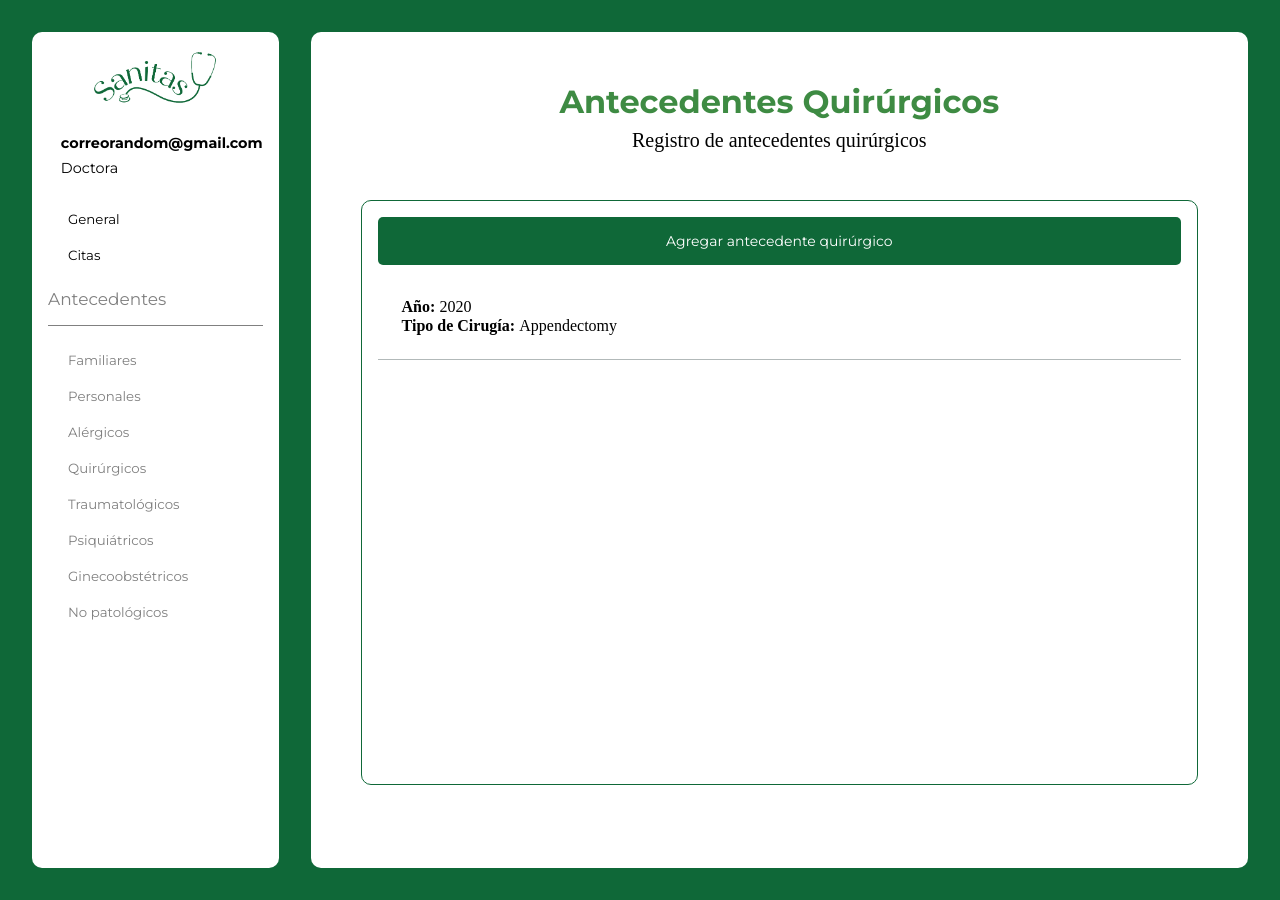
Scenario: SurgicalHistory Component Tests › cancels new surgical record form on button click
Click the button "Agregar antecedente quirúrgico": (779, 241) top-left (378, 217), bottom-right (1181, 265)
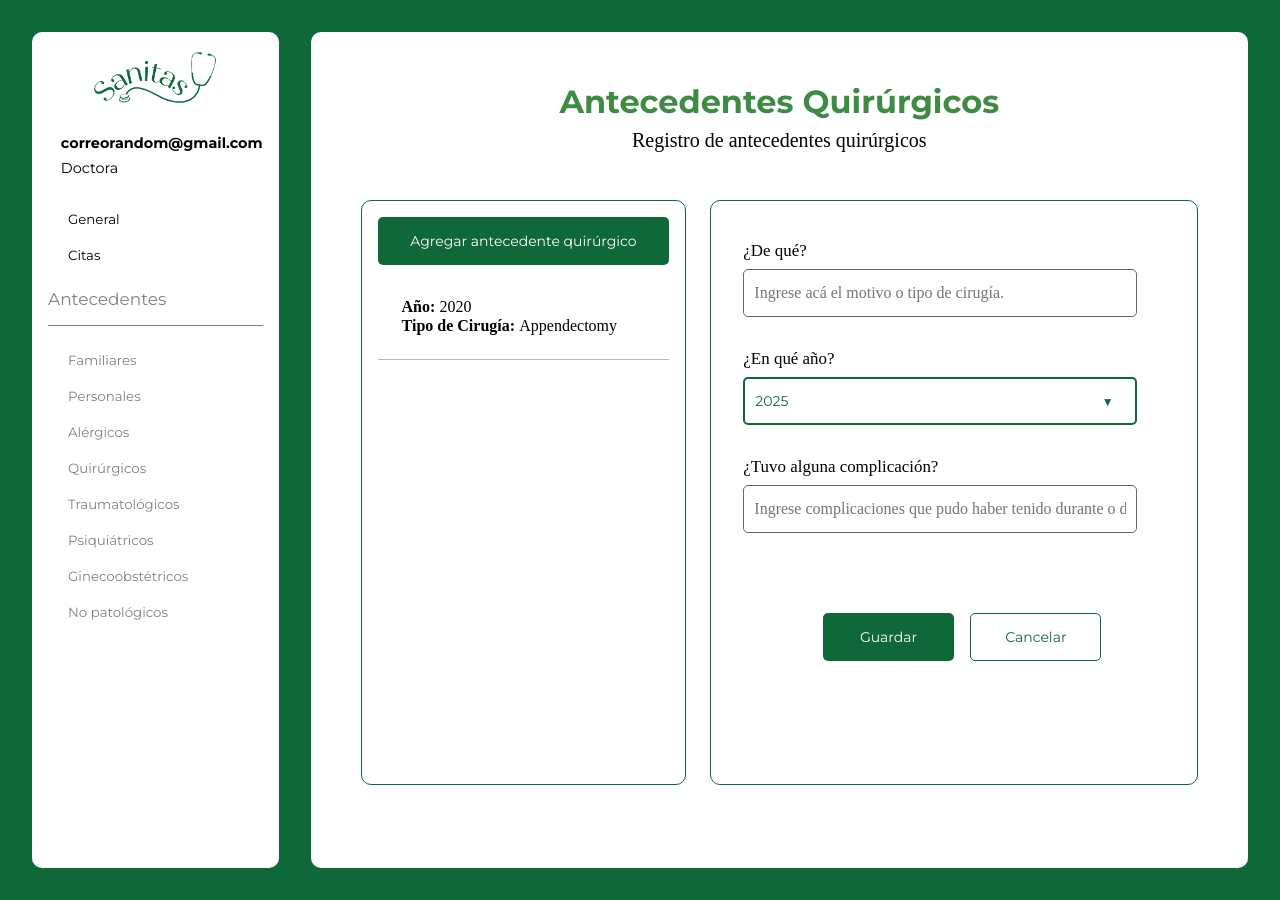
expect the text "Guardar" is shown: met, box top-left (860, 628), bottom-right (917, 646)
Click the button "Cancelar": (1036, 637) top-left (970, 613), bottom-right (1102, 661)
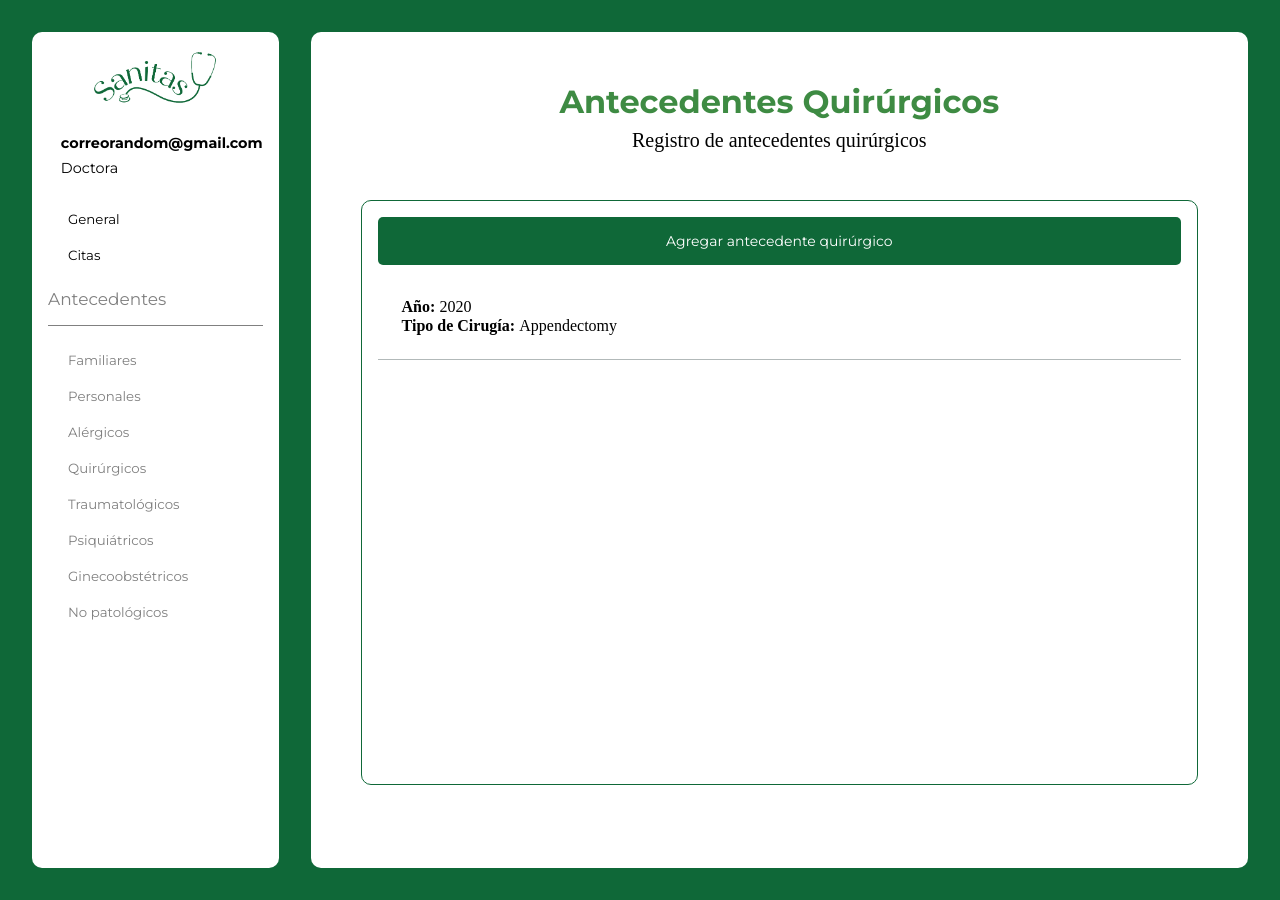
expect the button "Guardar" is gone: met
